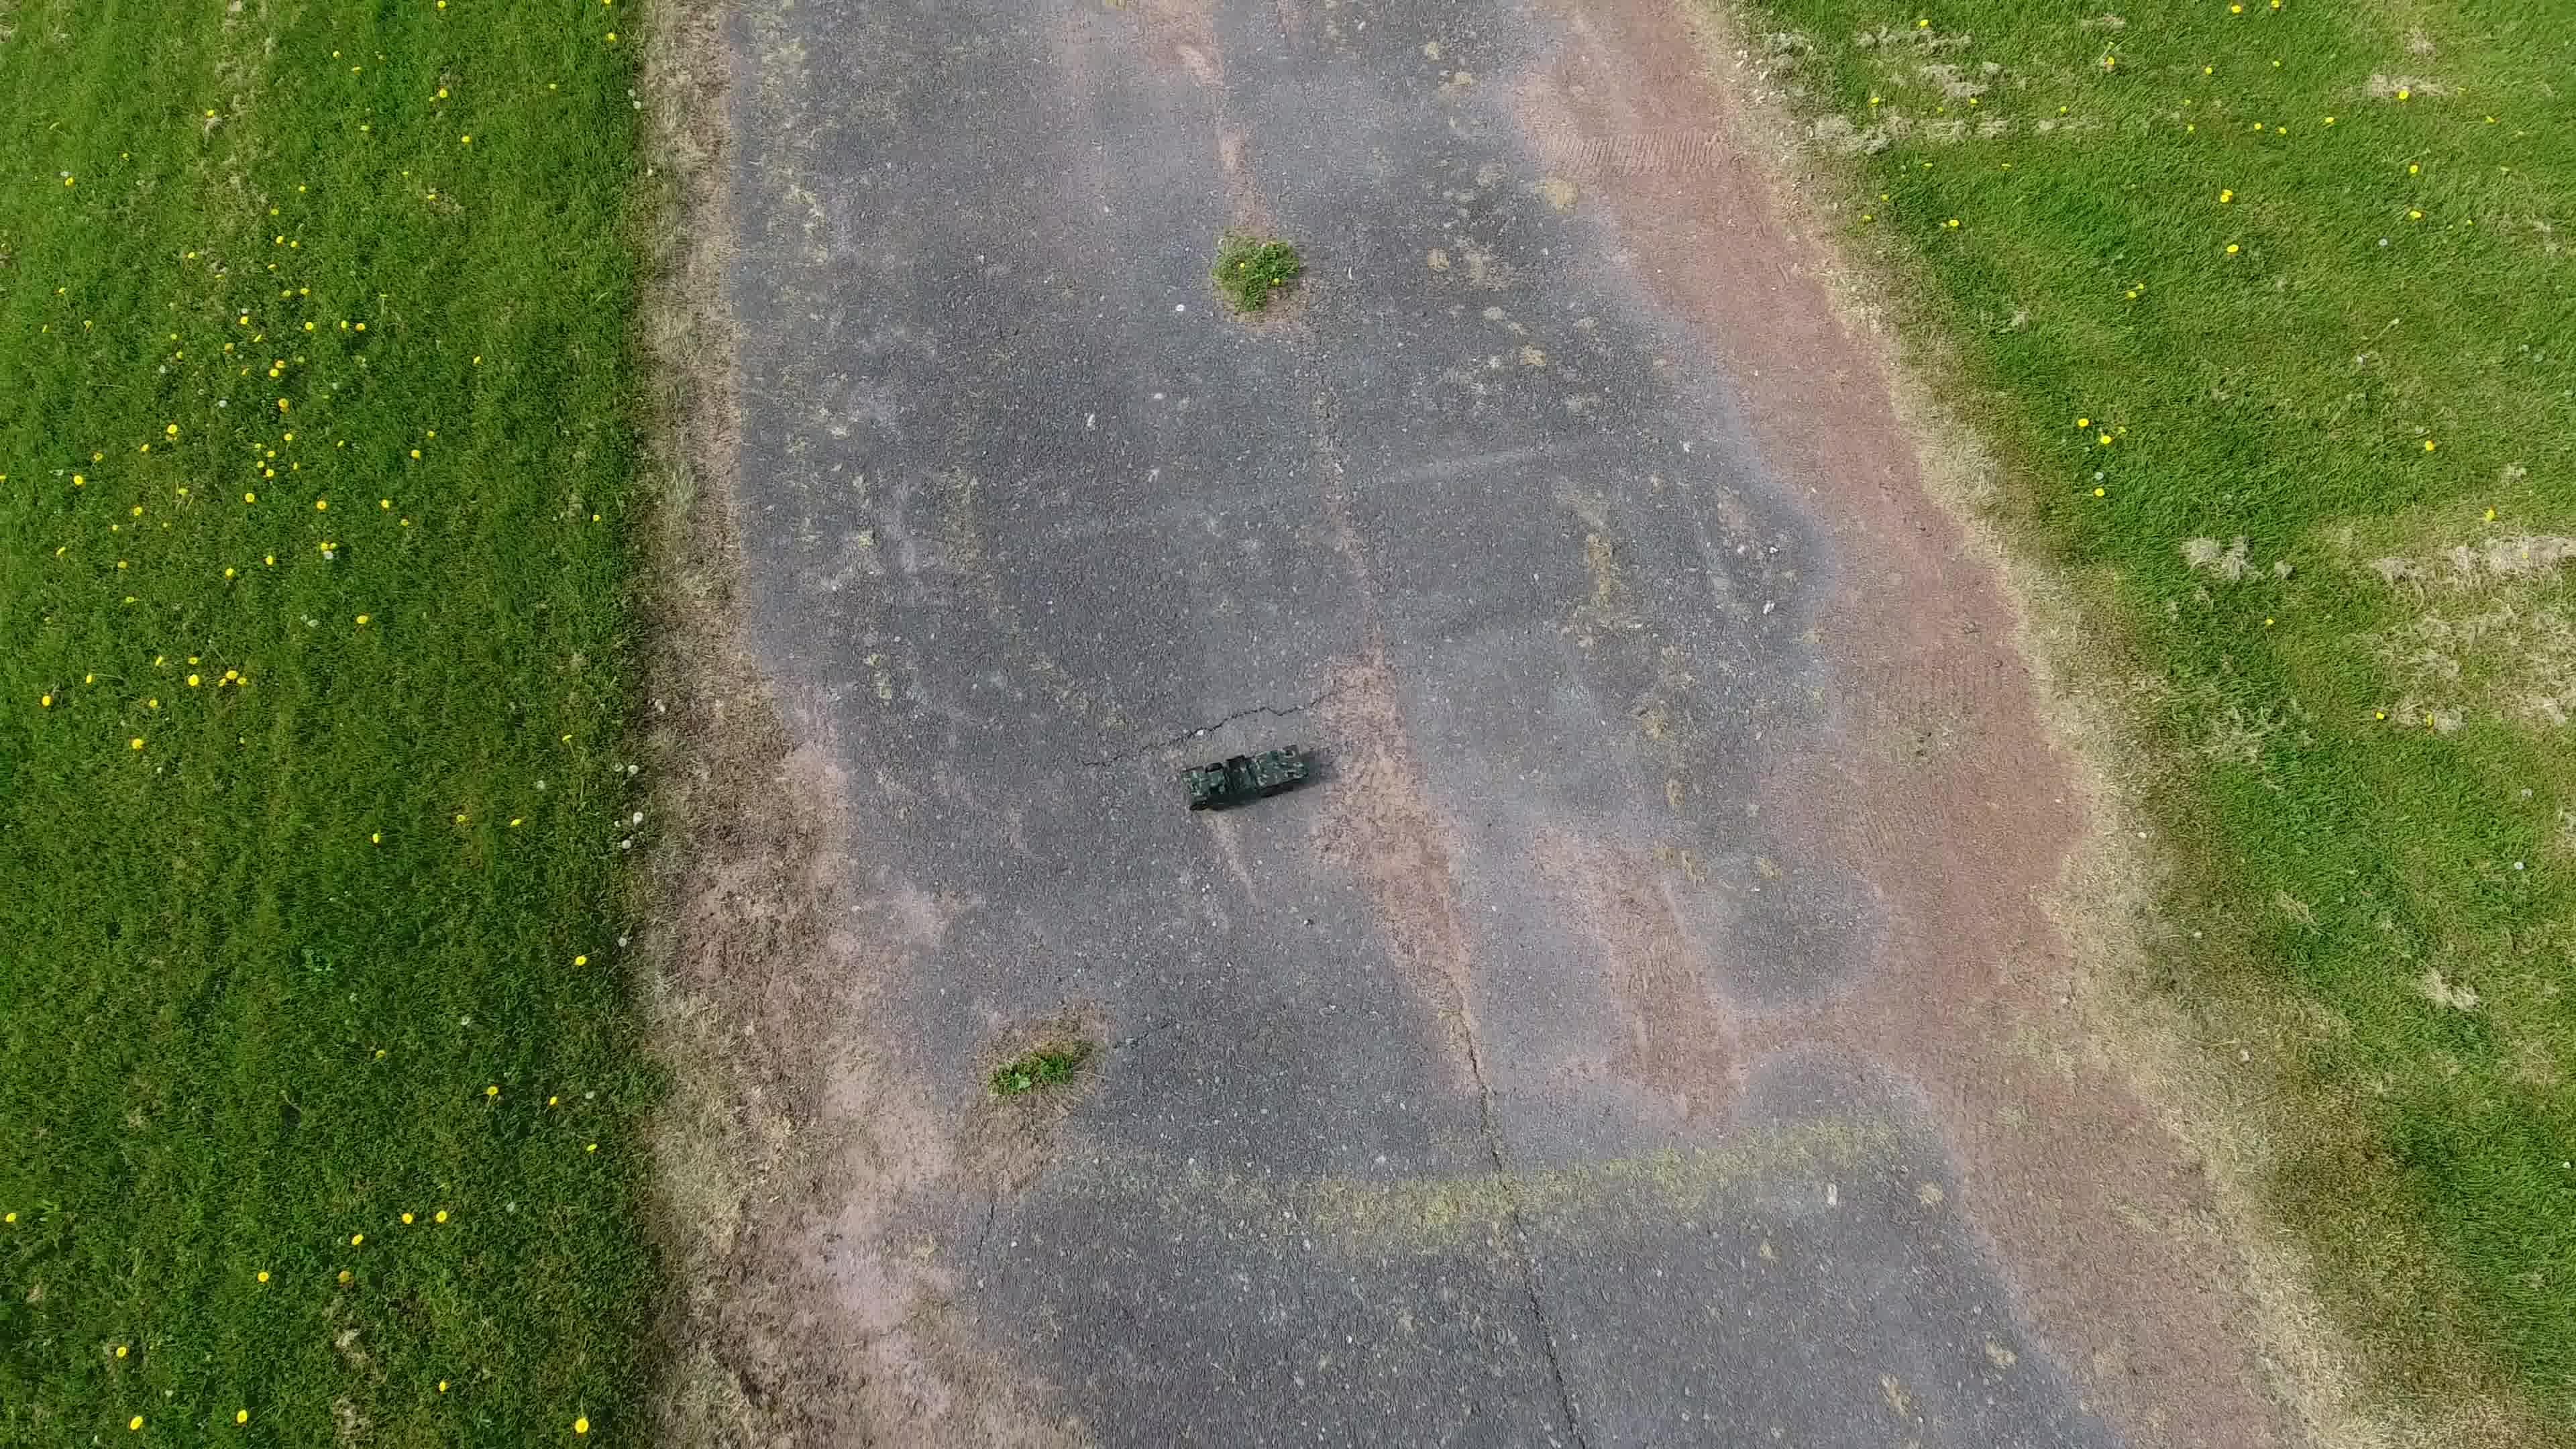transporter9_camo: (1169, 740, 1316, 819)
